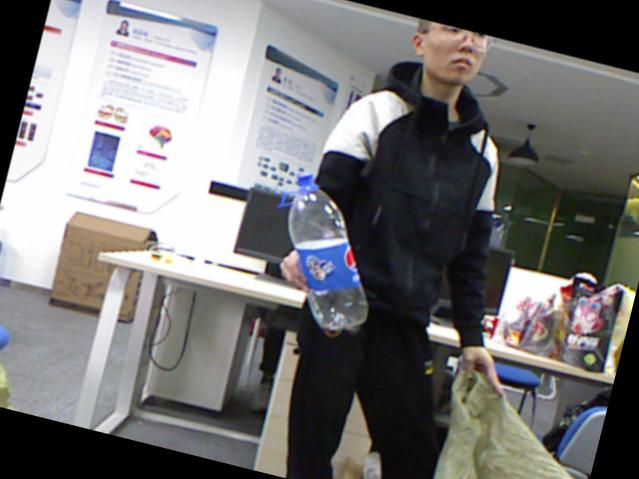cardboard paper: (48, 212, 153, 310)
plastic: (288, 176, 367, 329)
